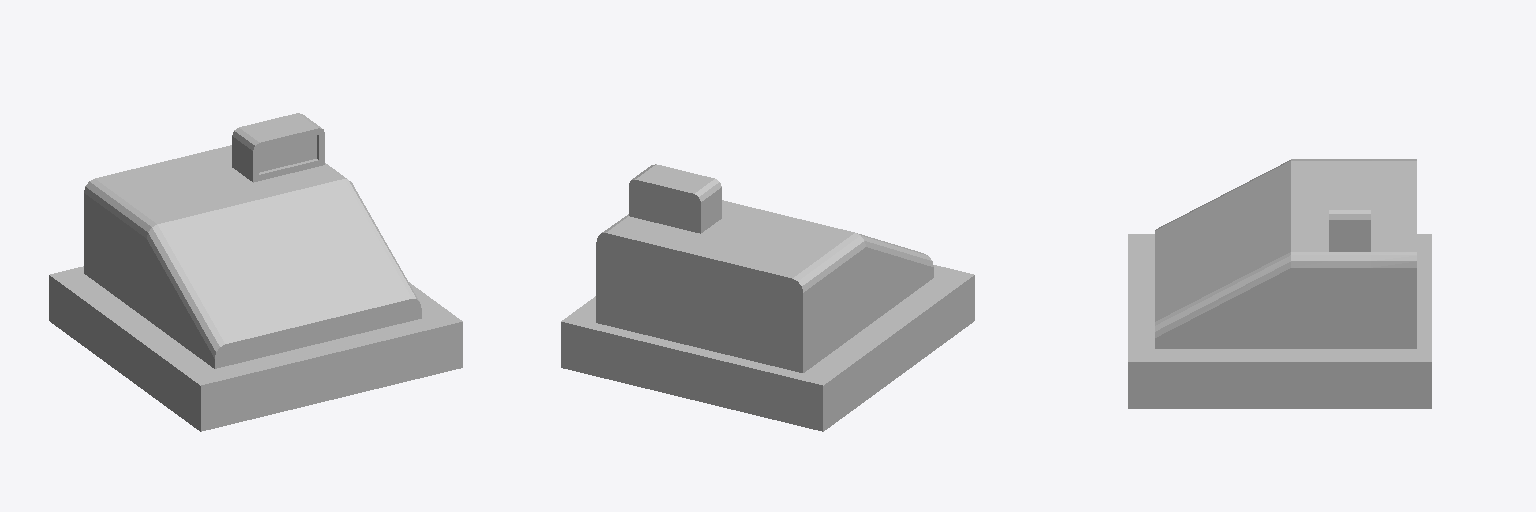
File: Cash Register.obj
3 views of the same model, side by side, from view 1: azimuth 30°, elevation 25°; view 2: azimuth 150°, elevation 25°; view 3: azimuth 270°, elevation 25° (orthographic).
Parts seen in each view (by area): view 1: Cash_Register; view 2: Cash_Register; view 3: Cash_Register.
Part boxes in pixels (bbox=[...]): Cash_Register: bbox=[49, 113, 462, 431]; Cash_Register: bbox=[561, 164, 974, 431]; Cash_Register: bbox=[1128, 159, 1431, 408].
Size of the model in its own units: 0.4746 by 0.3056 by 0.4746.